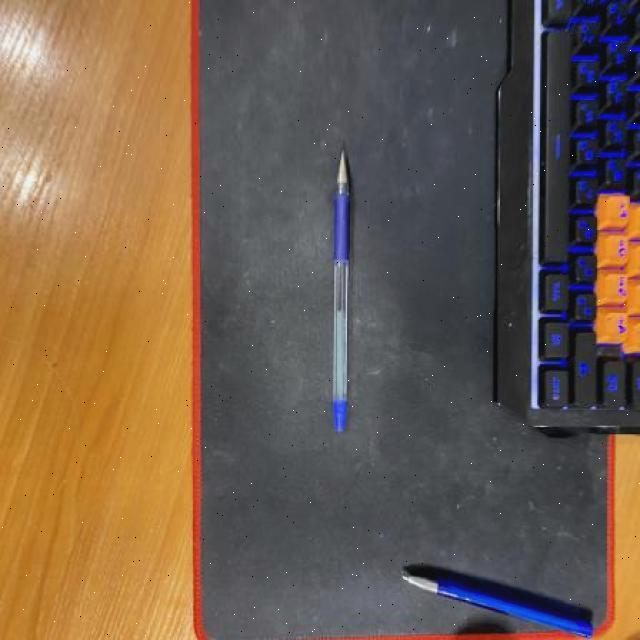pen: (329, 148, 351, 433)
